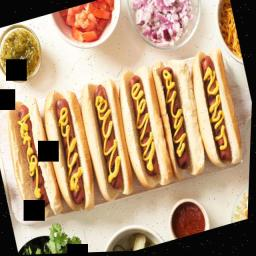hotdog: (106, 56, 184, 205), (32, 78, 108, 222), (71, 74, 147, 210), (0, 90, 71, 226), (147, 54, 217, 181), (183, 48, 250, 173)
